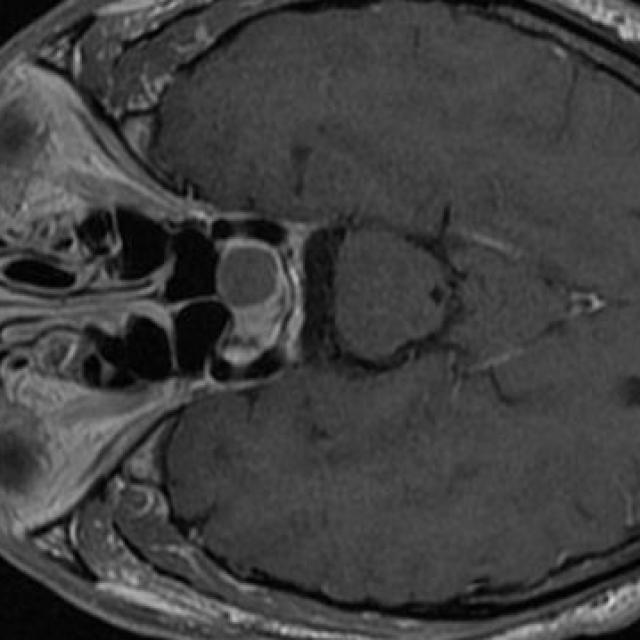pituitary: (214, 237, 283, 317)
